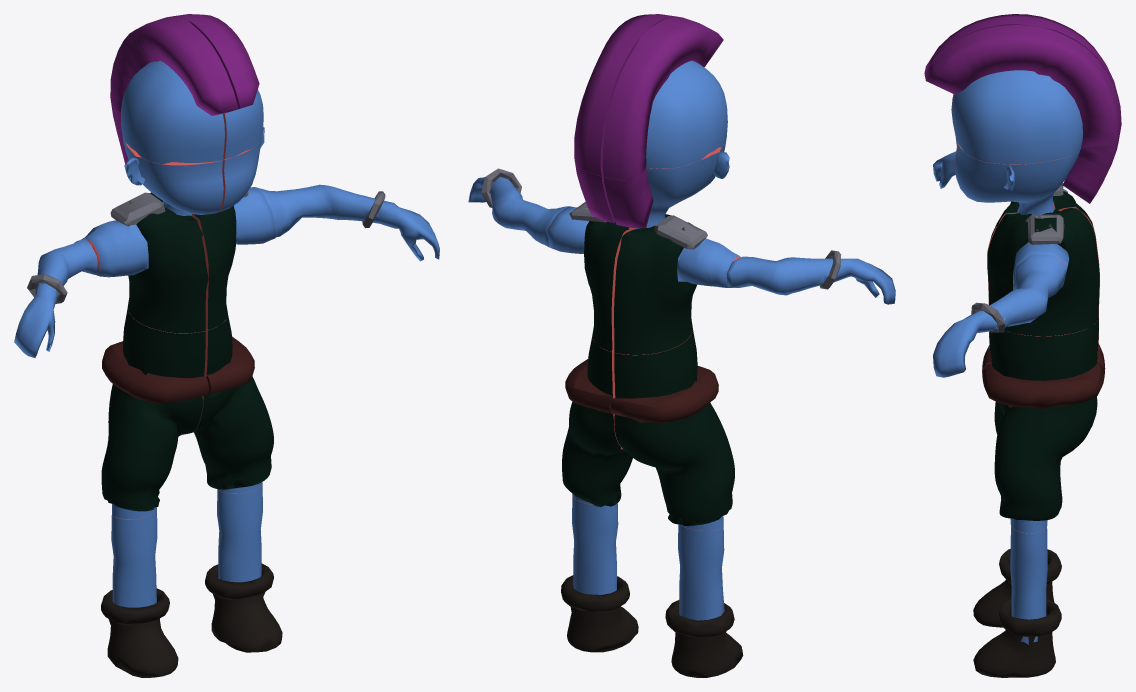
The model's file is Ragdoll_Grunt_Chunks.fbx.
3 renders of one model, left to right at view 1: azimuth 30°, elevation 25°; view 2: azimuth 150°, elevation 25°; view 3: azimuth 270°, elevation 25°, orthographic.
Visible parts, largest first — view 1: Hair(Grunt).002, Hair(Grunt).006, Hair(Grunt).003, Hair(Grunt).005, Hair(Grunt).010, Hair(Grunt).008, Hair(Grunt).001, Hair(Grunt).012, Hair(Grunt).004, Hair(Grunt).013; view 2: Hair(Grunt).002, Hair(Grunt).006, Hair(Grunt).003, Hair(Grunt).010, Hair(Grunt).008, Hair(Grunt).005, Hair(Grunt).001, Hair(Grunt).013, Hair(Grunt).004, Hair(Grunt).012; view 3: Hair(Grunt).004, Hair(Grunt).005, Hair(Grunt).001, Hair(Grunt).008, Hair(Grunt).012, Hair(Grunt).003, Hair(Grunt).010, Hair(Grunt).002, Hair(Grunt).013, Hair(Grunt).006, Hair(Grunt).009.
Part boxes in pixels (box(x1,y1,x2,y2)): Hair(Grunt).002: box(81, 109, 223, 333); Hair(Grunt).006: box(101, 308, 209, 511); Hair(Grunt).003: box(110, 16, 238, 164); Hair(Grunt).005: box(192, 315, 273, 489); Hair(Grunt).010: box(101, 510, 178, 677); Hair(Grunt).008: box(205, 484, 282, 652); Hair(Grunt).001: box(191, 127, 275, 329); Hair(Grunt).012: box(255, 184, 439, 261); Hair(Grunt).004: box(172, 14, 263, 159); Hair(Grunt).013: box(14, 238, 99, 357); Hair(Grunt).002: box(603, 141, 740, 354); Hair(Grunt).006: box(611, 328, 734, 525); Hair(Grunt).003: box(602, 16, 727, 182); Hair(Grunt).010: box(665, 524, 743, 677); Hair(Grunt).008: box(561, 496, 638, 652); Hair(Grunt).005: box(562, 336, 632, 506); Hair(Grunt).001: box(547, 167, 635, 351); Hair(Grunt).013: box(726, 250, 895, 304); Hair(Grunt).004: box(574, 14, 675, 176); Hair(Grunt).012: box(468, 168, 567, 246); Hair(Grunt).004: box(924, 25, 1121, 164); Hair(Grunt).005: box(982, 318, 1104, 520); Hair(Grunt).001: box(954, 137, 1118, 336); Hair(Grunt).008: box(973, 524, 1061, 677); Hair(Grunt).012: box(933, 254, 1066, 377); Hair(Grunt).003: box(924, 14, 1121, 124); Hair(Grunt).010: box(973, 518, 1061, 627); Hair(Grunt).002: box(954, 138, 1099, 315); Hair(Grunt).013: box(933, 151, 955, 188); Hair(Grunt).006: box(982, 316, 1105, 434); Hair(Grunt).009: box(1011, 518, 1046, 533).
Bounding box in the file's own units: 1209 × 1728 × 500.
